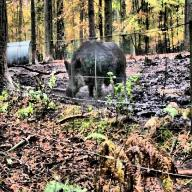boar: (62, 36, 135, 106)
